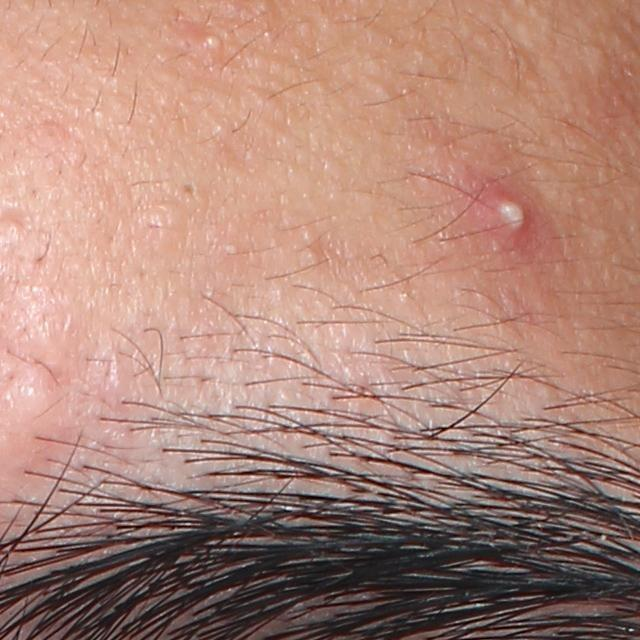comedo: (588, 41, 613, 74), (179, 177, 199, 199), (593, 229, 614, 245)
pustule: (473, 183, 533, 249)
